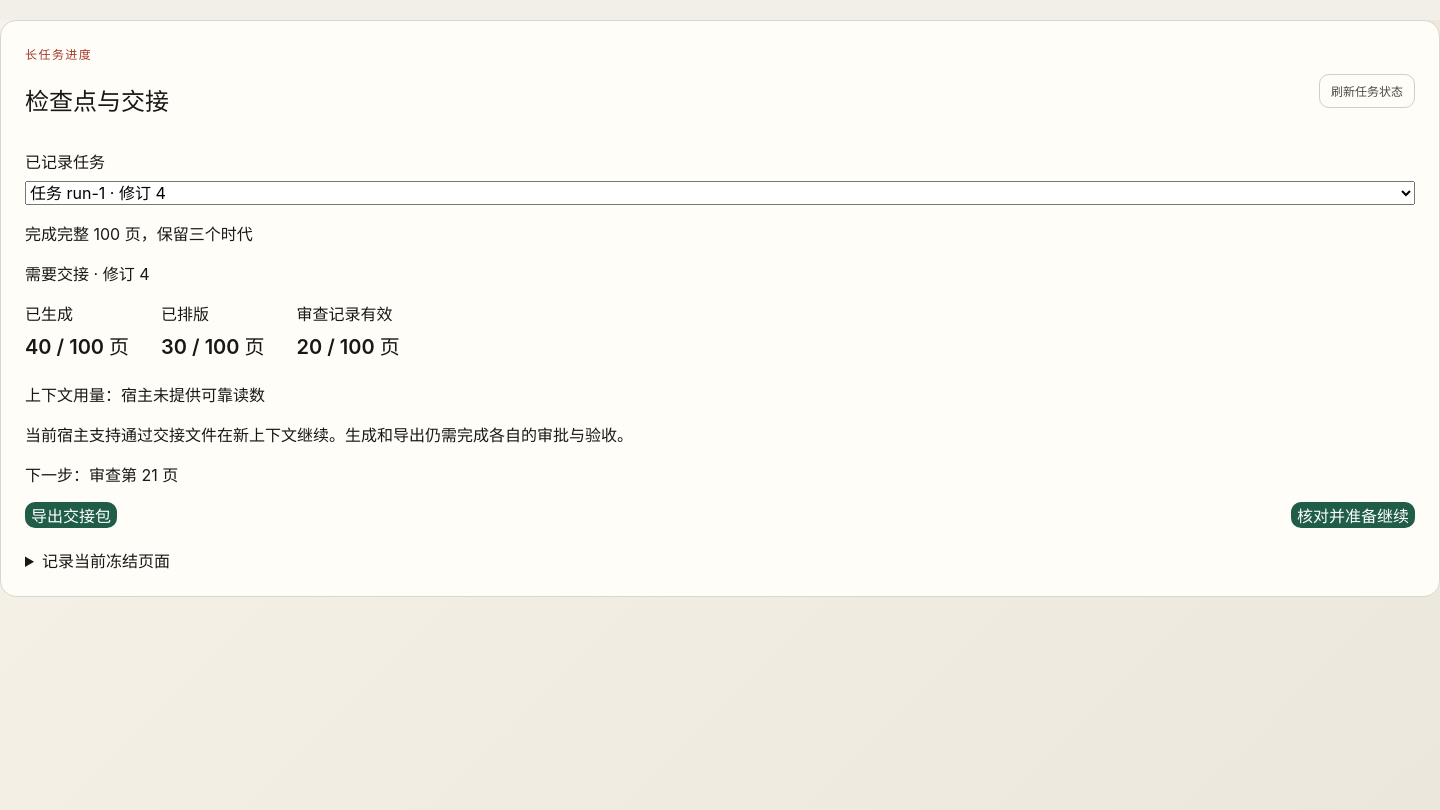
Test: reconciles a fresh plan and releases the resulting revision
Click the button "核对并准备继续" at [1353, 515], box [1291,502,1415,528]
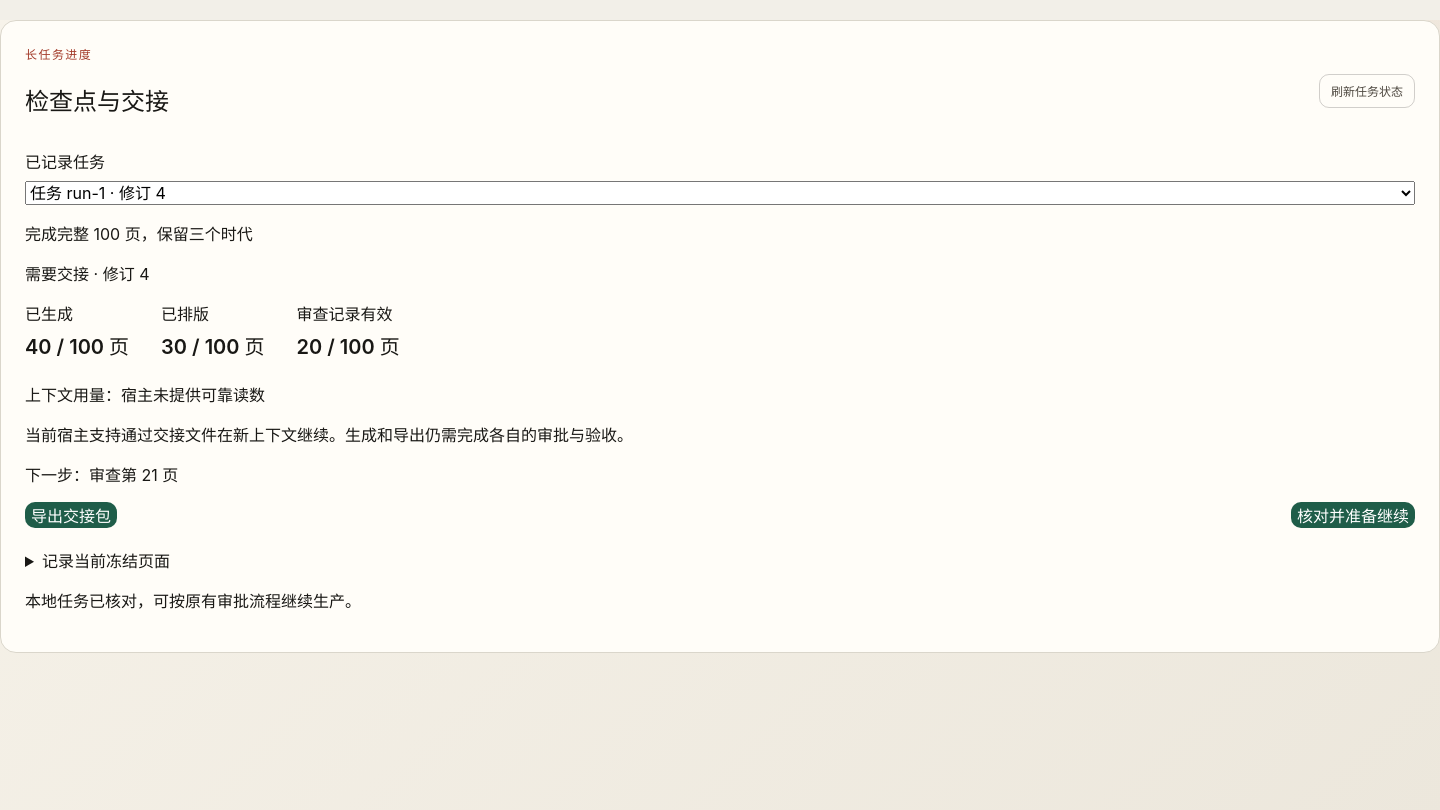
Check: the text "本地任务已核对，可按原有审批流程继续生产。" is shown, box [25,591,361,611]
